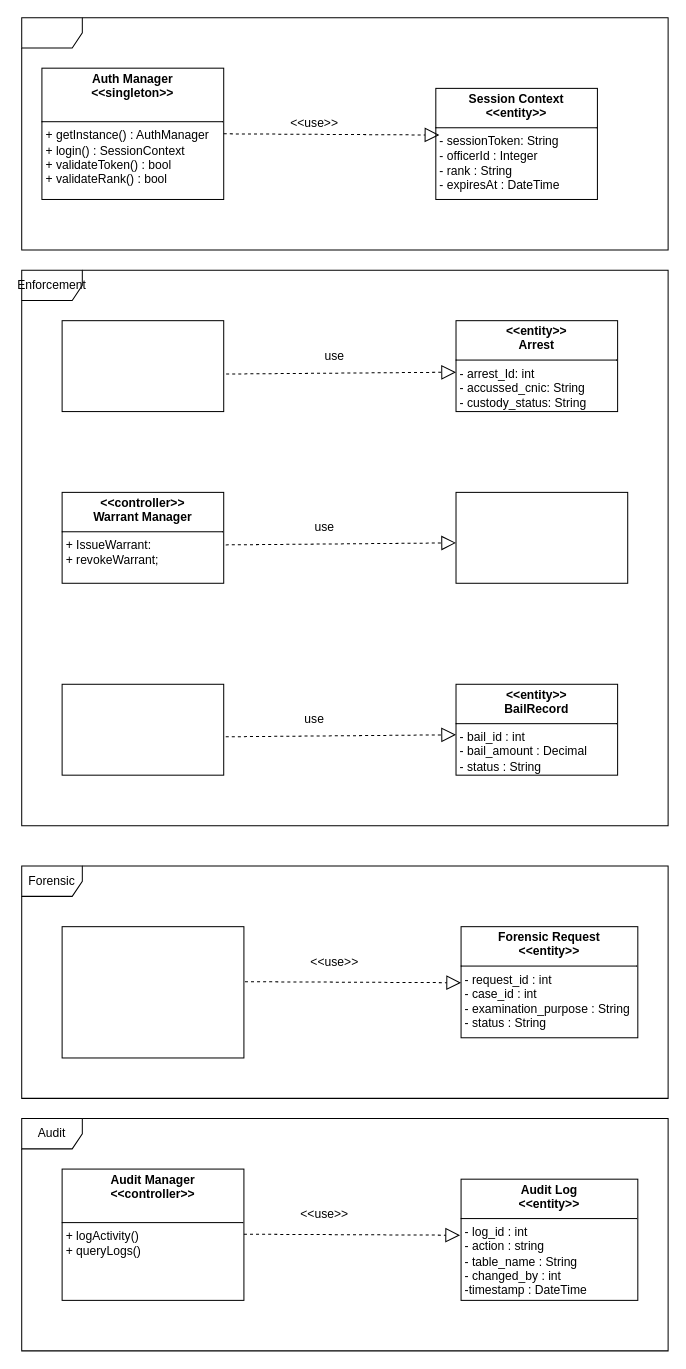
Some shapes in this 686 by 1369 pixel diagram are drawn without their labels. The shapes that lost their labels are listed below. From the top down, each one's centre as x and y in pixels, then its label:
the point at 344,133: AuthModule
the point at 142,366: <<controller>> Arrest Manager + createArrest(): + updateCustody();
the point at 541,537: <<entity>> Warrant - warrant_id: int - warrant_type : String - status : String
the point at 142,729: <<controller>> Bail Manager + grantBail()
the point at 152,992: Forensic Manager <<controller>> + requestAnalysis(); +updateReportStatus();
